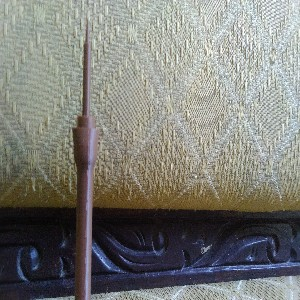solder: (71, 27, 101, 300)
